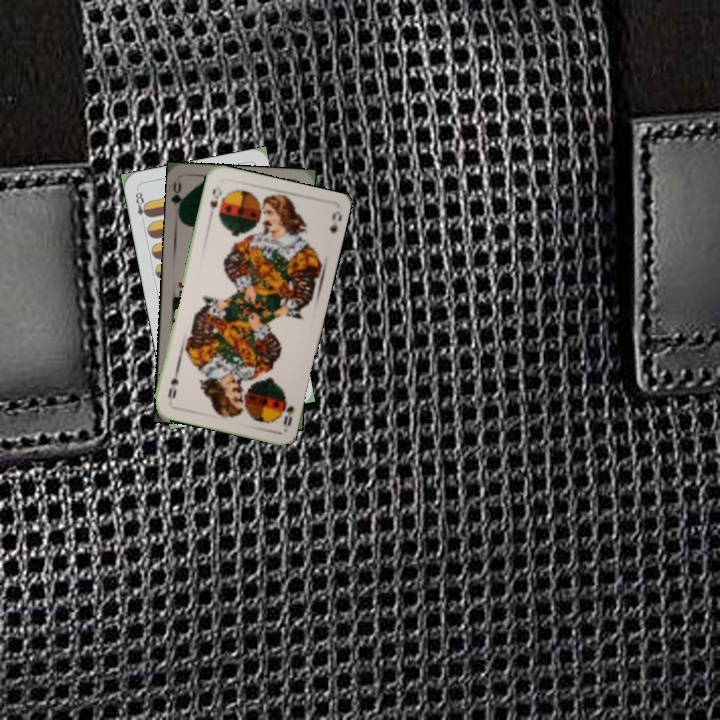E8: (131, 186, 152, 226)
GO: (169, 177, 189, 218)
SO: (277, 392, 297, 428), (206, 183, 225, 212)
